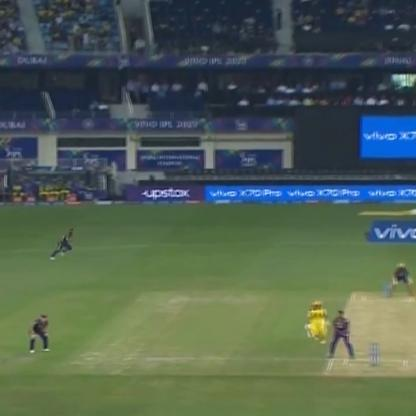pitch: (318, 285, 414, 378)
